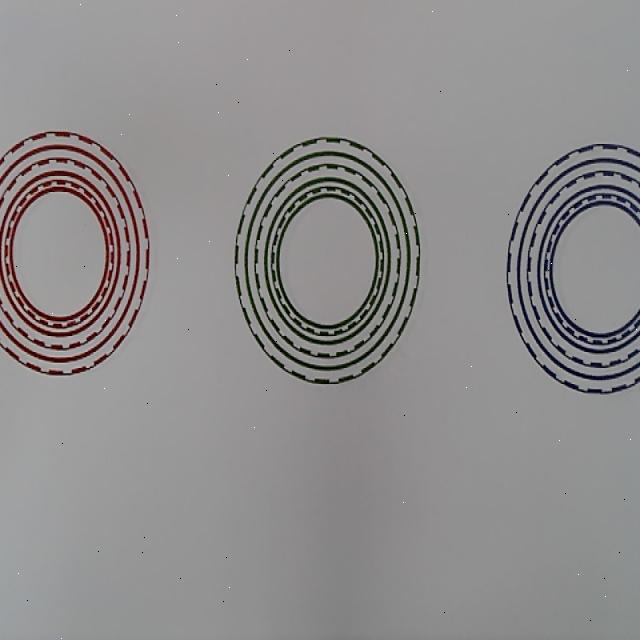g: (235, 136, 420, 385)
